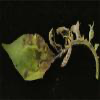Potato leaf late blight: (1, 28, 56, 84)
